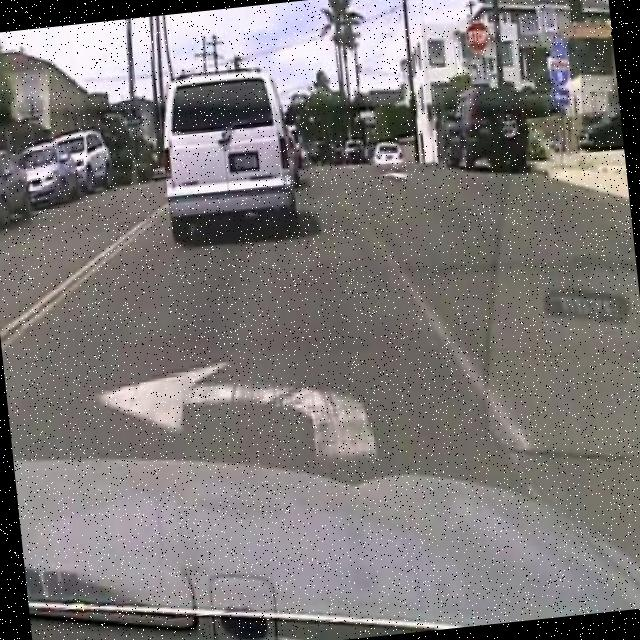Stop: (463, 18, 491, 54)
